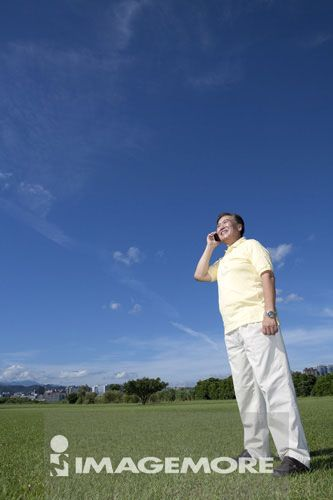talk: (206, 218, 234, 245)
